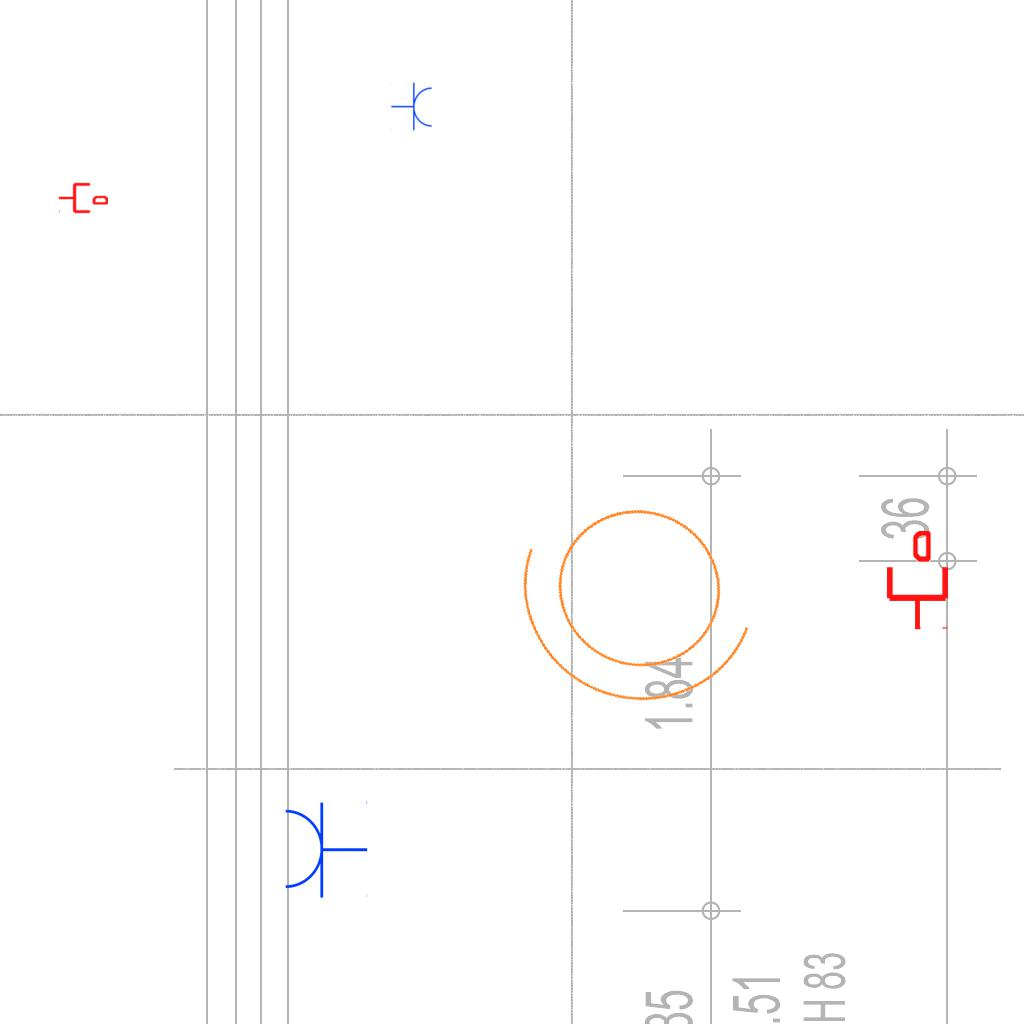Datenanschluss_einfach: (883, 531, 952, 631), (58, 181, 108, 215)
Scheinwerfer_fuer_Alarmbeleuchtung: (479, 448, 805, 751)
Schukosteckdose_einfach: (281, 799, 368, 899), (391, 82, 434, 132)
